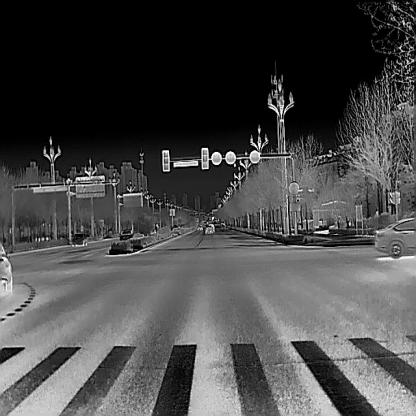car: (372, 216, 416, 258), (0, 243, 12, 296), (72, 231, 87, 245), (119, 228, 133, 239), (204, 225, 212, 234), (219, 223, 225, 229), (197, 224, 202, 230)
